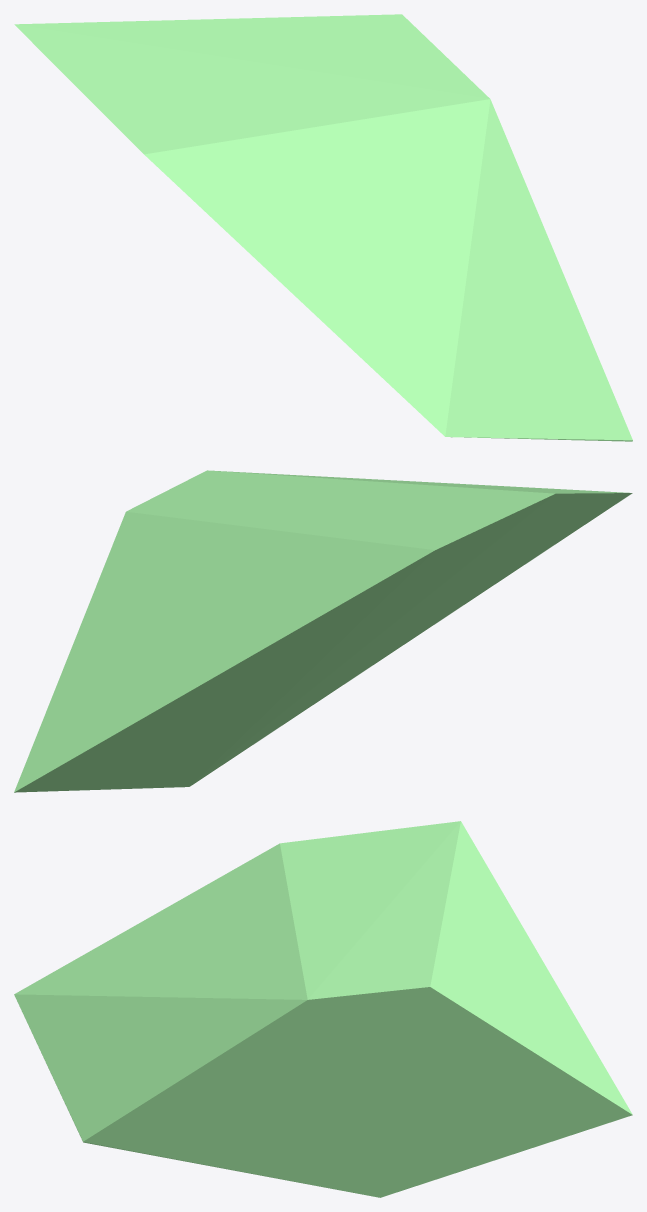
Rendered from UMIRobot_UMIRobot_link_5_convex_coll_52.dae.
3 views of the same model, one above another, from view 1: azimuth 30°, elevation 25°; view 2: azimuth 150°, elevation 25°; view 3: azimuth 270°, elevation 25° (orthographic). The views are drawn at different scales.
Visible parts, largest first — view 1: node; view 2: node; view 3: node.
Boxes of the visible parts, x1,y1,x2,y2 form: node: (14,14,632,441); node: (14,470,632,792); node: (14,821,632,1197).
Bounding box in the file's own units: 0.00298 × 0.003 × 0.00633.
